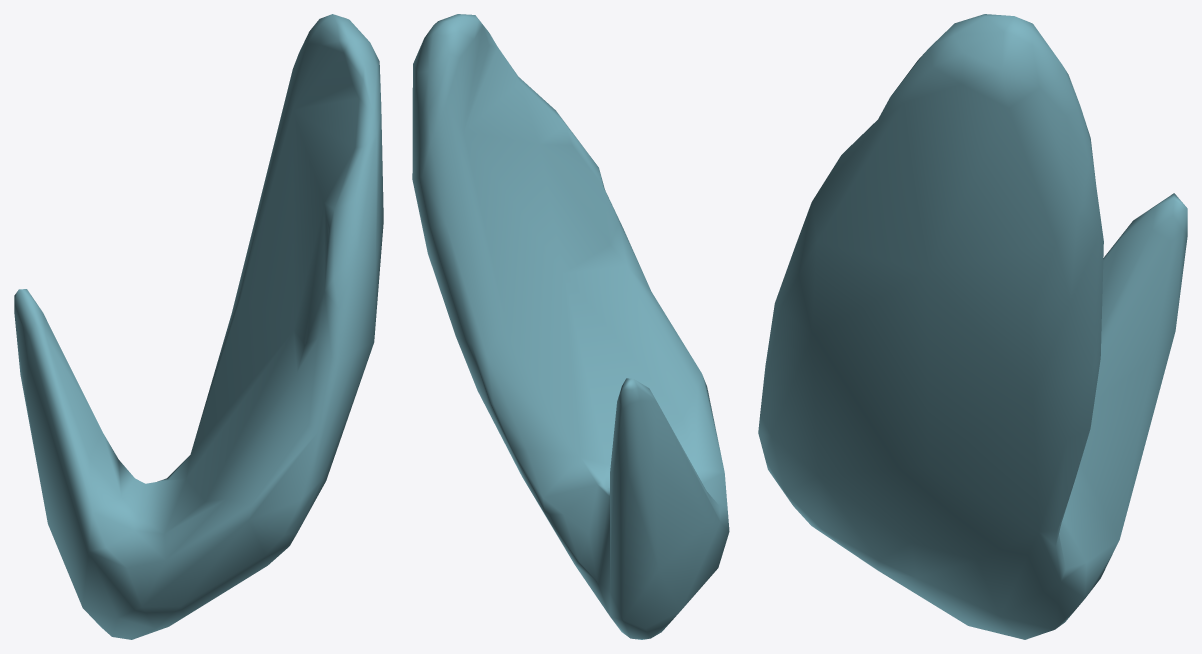
3 renders of one model, left to right at view 1: azimuth 30°, elevation 25°; view 2: azimuth 150°, elevation 25°; view 3: azimuth 270°, elevation 25°, orthographic. The views are drawn at different scales.
Parts seen in each view (by area): view 1: 左侧鼻翼大软骨; view 2: 左侧鼻翼大软骨; view 3: 左侧鼻翼大软骨.
Boxes of the visible parts, <box> form: 左侧鼻翼大软骨: <box>14,14,383,639</box>; 左侧鼻翼大软骨: <box>412,14,729,639</box>; 左侧鼻翼大软骨: <box>758,14,1187,639</box>.
Bounding box in the file's own units: 0.0218 × 0.0403 × 0.0209.
